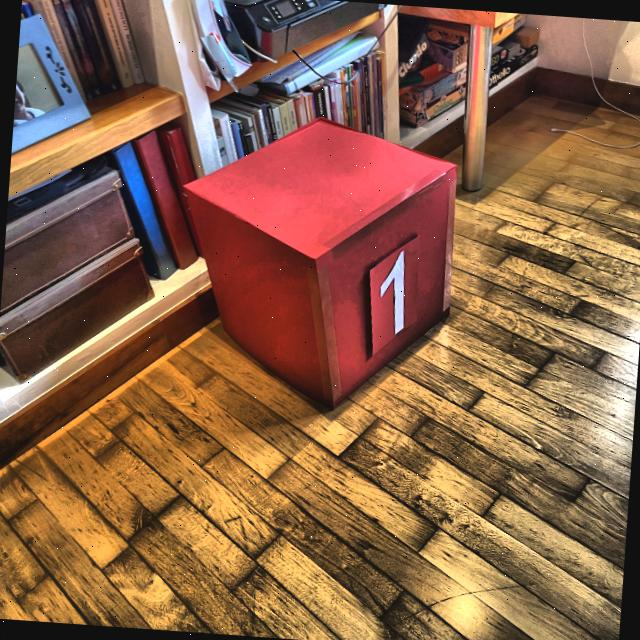one: (376, 250, 412, 336)
red box: (168, 109, 466, 418)
